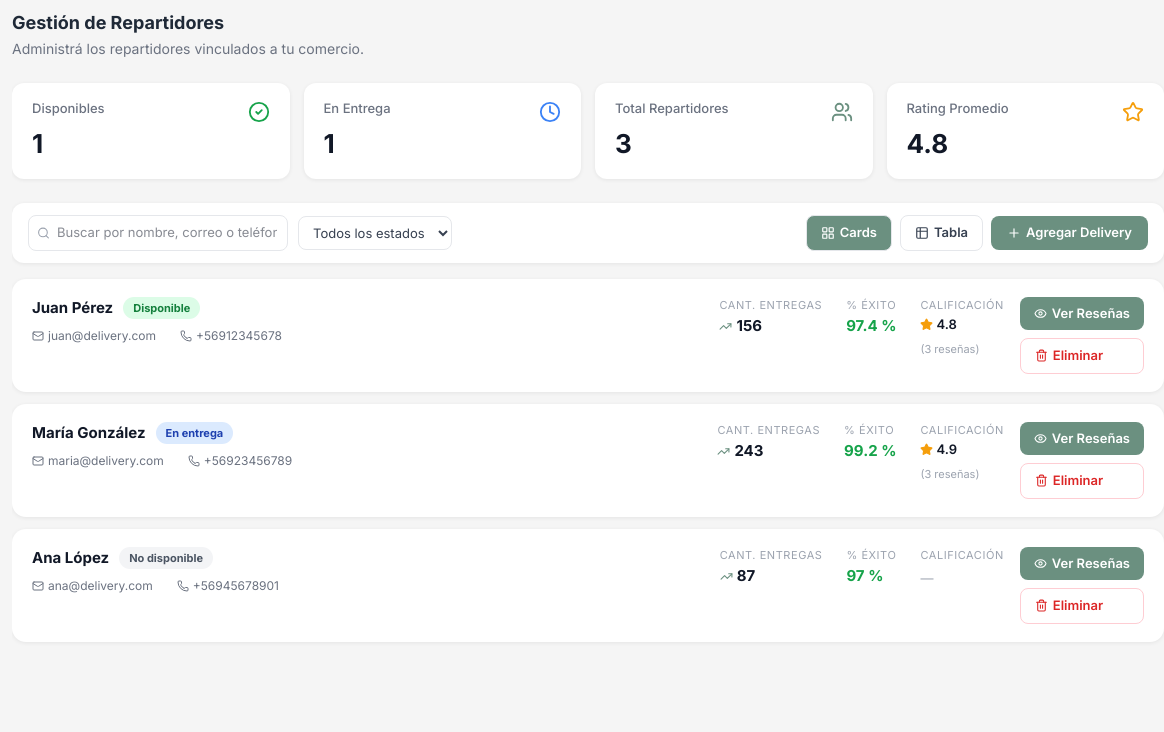
CommerceDeliveriesPage › Vista Tabla › vuelve a vista cards al hacer clic en Cards
The image size is (1164, 732).
Click the button "Tabla" at (942, 233), box [900,215,983,251]
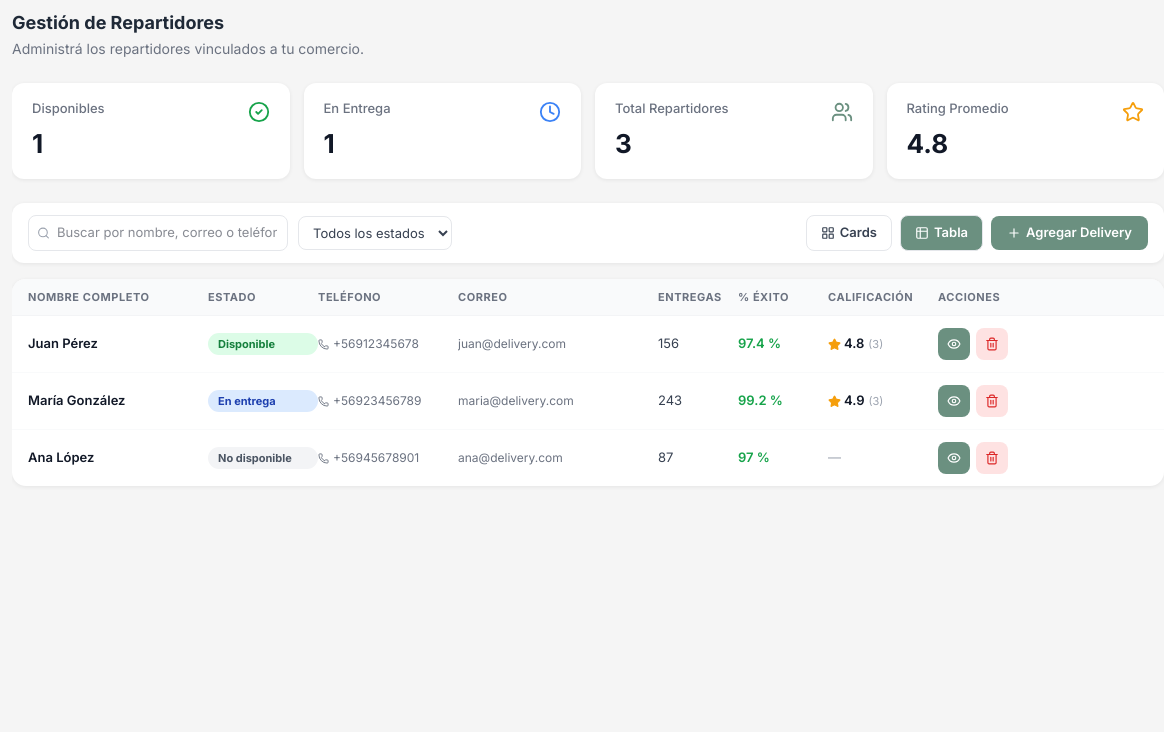
Click the button "Cards" at (849, 233), box [806,215,892,251]
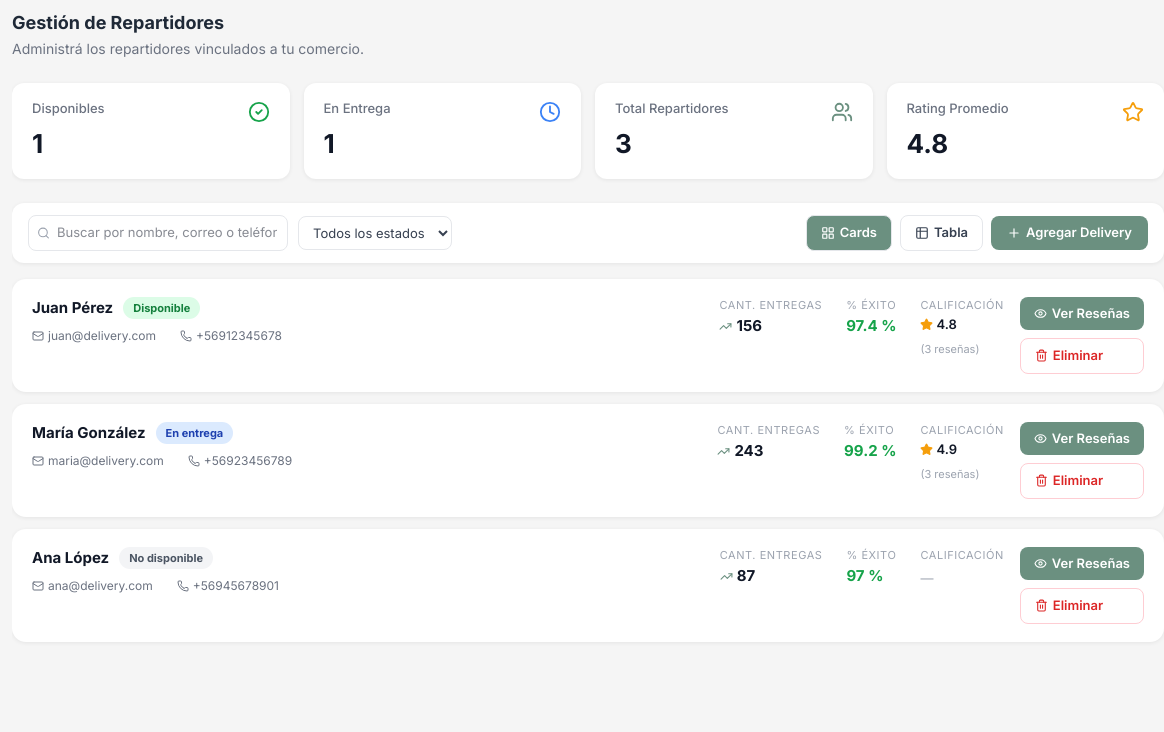
expect the text "Juan Pérez" is shown: met, box [32,297,113,319]
expect the text "Nombre Completo" is gone: met
